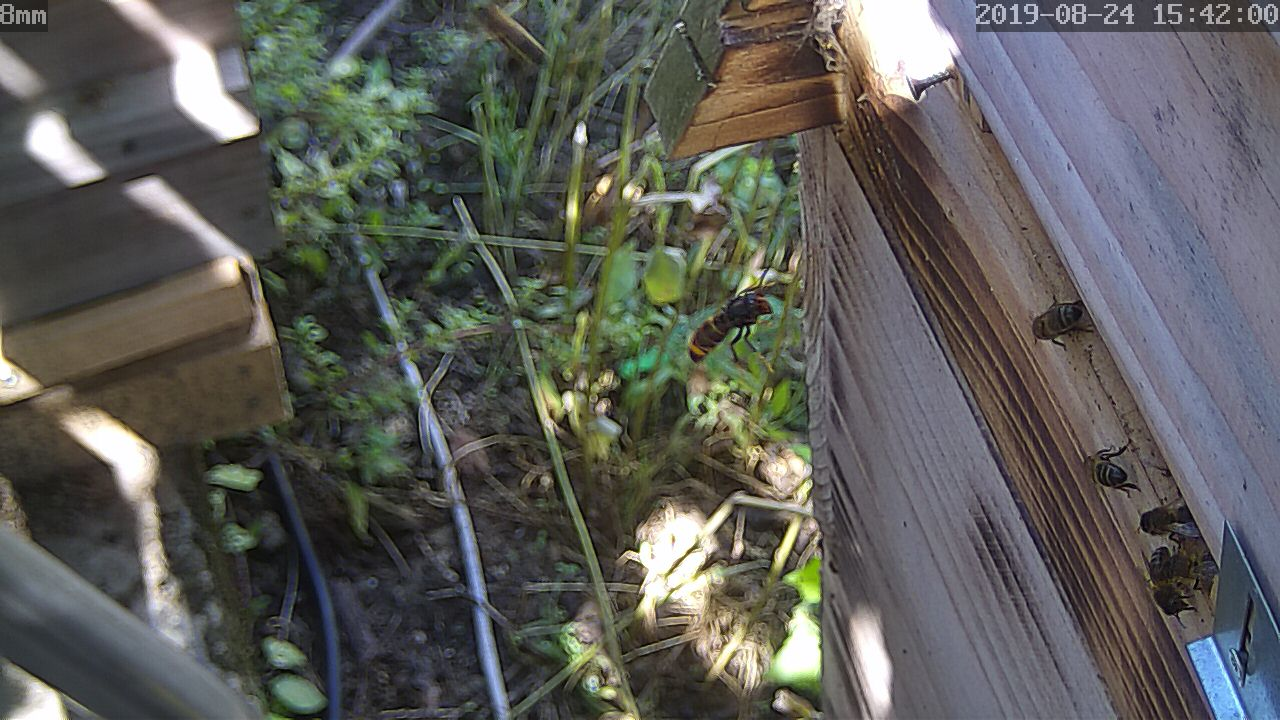bee: (1132, 542, 1193, 626), (1125, 497, 1204, 544), (1031, 293, 1084, 351), (1073, 445, 1127, 493)
hornet: (681, 285, 782, 375)
